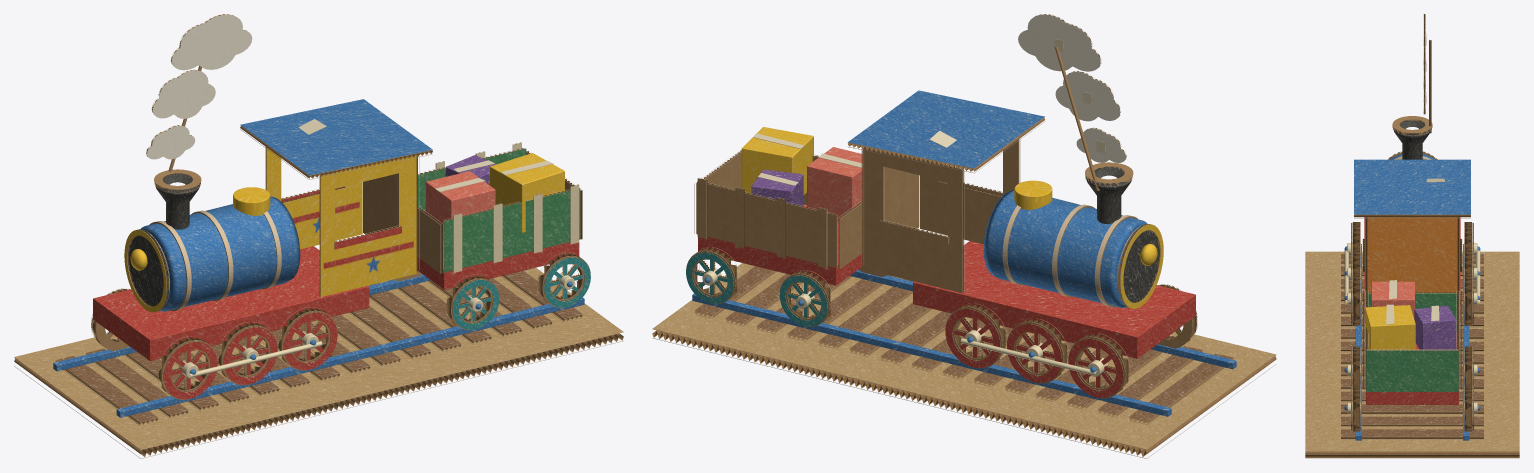
Rendered from 12_rainbow_express.glb.
3 views of the same model, side by side, from view 1: azimuth 30°, elevation 25°; view 2: azimuth 150°, elevation 25°; view 3: azimuth 270°, elevation 25° (orthographic). The views are drawn at different scales.
Parts seen in each view (by area): view 1: blue, sand, red, flute, artwork_12_rainbow_express, brown, edge, kraft, white, green, yellow, cream (+5 smaller); view 2: kraft, blue, sand, red, flute, brown, edge, white, yellow, coral, black, teal (+3 smaller); view 3: sand, flute, blue, orange, brown, green, edge, yellow, purple, red, cream, coral (+3 smaller).
Boxes of the visible parts, x1,y1,x2,y2 form: blue: (53, 99, 584, 417); sand: (14, 267, 623, 449); red: (93, 187, 579, 399); flute: (14, 14, 623, 456); artwork_12_rainbow_express: (266, 148, 416, 296); brown: (56, 271, 582, 421); edge: (14, 14, 623, 458); kraft: (92, 65, 590, 399); white: (147, 14, 252, 159); green: (418, 148, 580, 272); yellow: (124, 153, 564, 312); cream: (178, 143, 579, 378); kraft: (686, 47, 1196, 398); blue: (692, 90, 1236, 416); sand: (652, 263, 1276, 449); red: (698, 204, 1195, 397); flute: (652, 14, 1276, 456); brown: (695, 266, 1233, 420); edge: (652, 14, 1275, 458); white: (1018, 14, 1125, 162); yellow: (741, 127, 1163, 308); coral: (807, 147, 862, 220); black: (1086, 166, 1159, 302); teal: (686, 252, 827, 326); sand: (1305, 251, 1519, 451); flute: (1305, 14, 1519, 457); blue: (1344, 154, 1480, 440); orange: (1367, 217, 1457, 292); brown: (1341, 254, 1483, 436); green: (1366, 293, 1458, 391); edge: (1305, 14, 1519, 458); yellow: (1365, 305, 1415, 350); purple: (1414, 305, 1456, 350); red: (1364, 217, 1460, 404); cream: (1344, 158, 1480, 413); coral: (1371, 281, 1414, 318).
Bounding box in the file's own units: 0.66 × 0.4645 × 0.3.
Materials: 18 (16 with a texture image).
